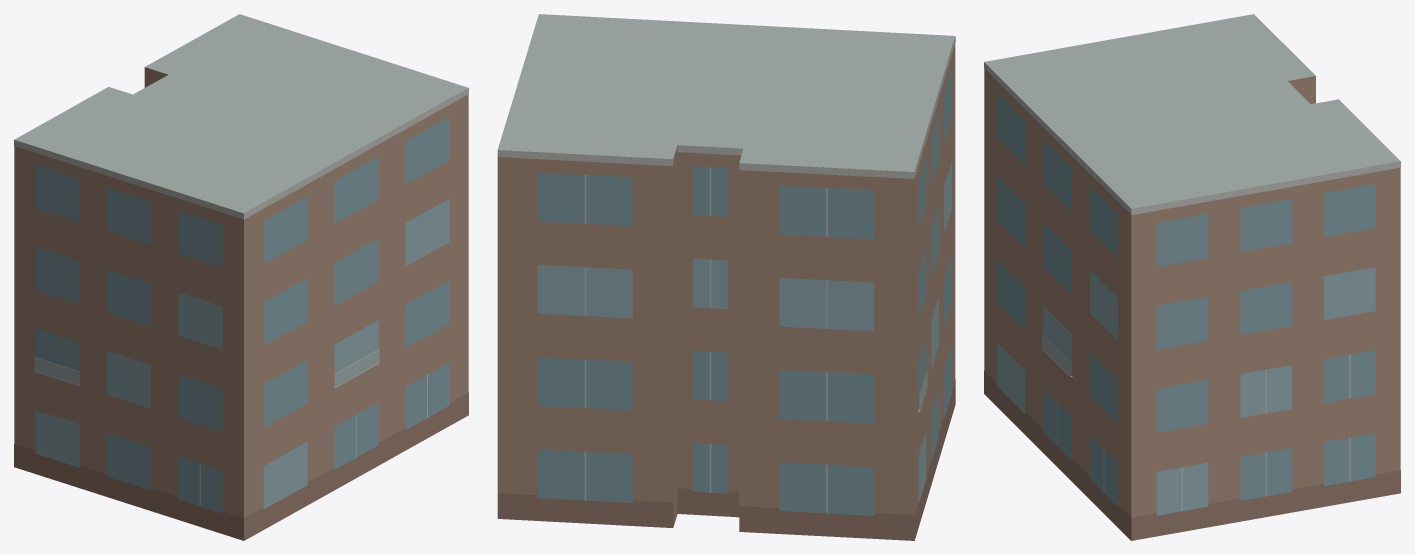
File: survey-upis-33017801.glb
3 renders of one model, left to right at view 1: azimuth 30°, elevation 25°; view 2: azimuth 150°, elevation 25°; view 3: azimuth 270°, elevation 25°, orthographic. The views are drawn at different scales.
Parts seen in each view (by area): view 1: survey-upis-33017801.tmp; view 2: survey-upis-33017801.tmp; view 3: survey-upis-33017801.tmp.
Boxes of the visible parts, <box> form: survey-upis-33017801.tmp: <box>14,14,468,540</box>; survey-upis-33017801.tmp: <box>497,14,955,540</box>; survey-upis-33017801.tmp: <box>984,14,1400,540</box>.
Size of the model in its own units: 16.28 by 12.92 by 14.71.
